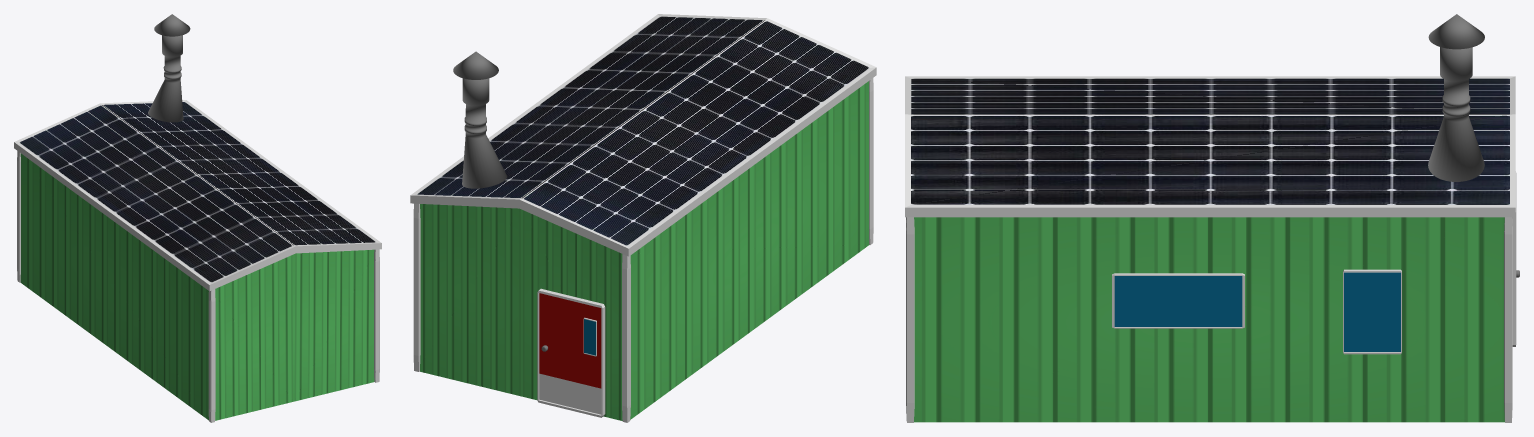
The model's file is Village_house_2.fbx.
3 renders of one model, left to right at view 1: azimuth 30°, elevation 25°; view 2: azimuth 150°, elevation 25°; view 3: azimuth 270°, elevation 25°, orthographic. The views are drawn at different scales.
Parts seen in each view (by area): view 1: Cube.008; view 2: Cube.008; view 3: Cube.008.
Boxes of the visible parts, x1,y1,x2,y2 form: Cube.008: [14, 14, 381, 422]; Cube.008: [410, 14, 876, 422]; Cube.008: [905, 14, 1519, 422].
Size of the model in its own units: 519 by 710 by 1026.
